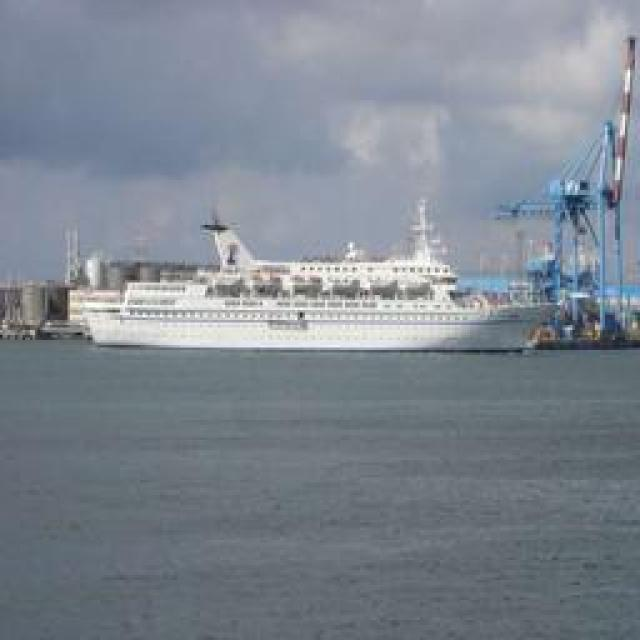CIV_Ship: (79, 200, 562, 350)
